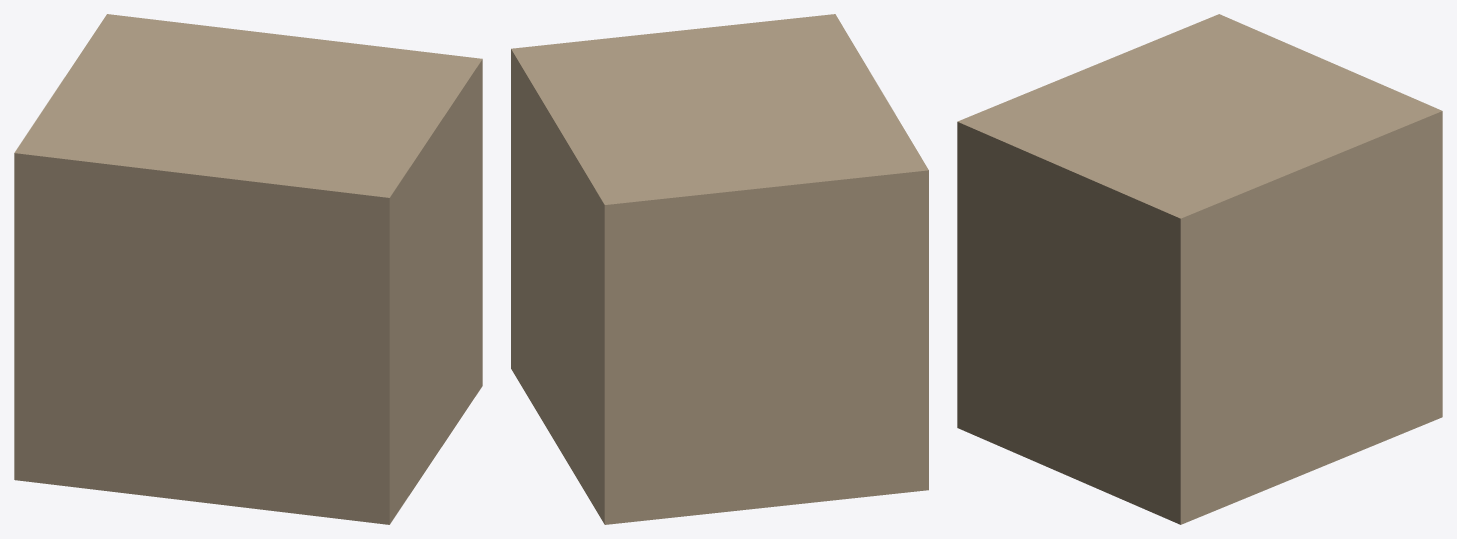
The model's file is bld_392274140.dae.
The picture shows the model from 3 angles, left to right: view 1: azimuth 30°, elevation 25°; view 2: azimuth 150°, elevation 25°; view 3: azimuth 270°, elevation 25°; orthographic projection. The views are drawn at different scales.
Parts seen in each view (by area): view 1: bld_392274140; view 2: bld_392274140; view 3: bld_392274140.
Boxes of the visible parts, bbox=[...] form: bld_392274140: bbox=[14, 14, 482, 524]; bld_392274140: bbox=[511, 14, 928, 524]; bld_392274140: bbox=[957, 14, 1442, 524].
Bounding box in the file's own units: 11.47 × 11.49 × 8.
